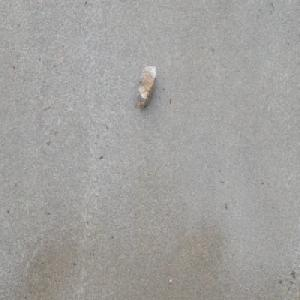Rock: (136, 64, 156, 110)
